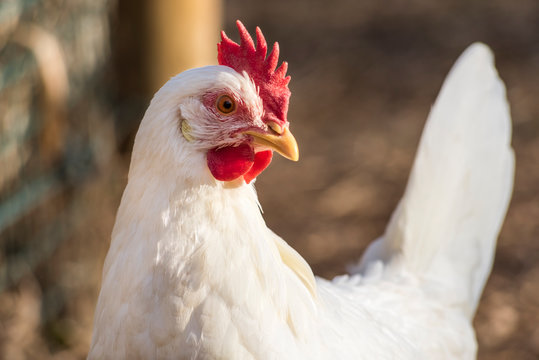Healthy: (92, 11, 522, 350)
